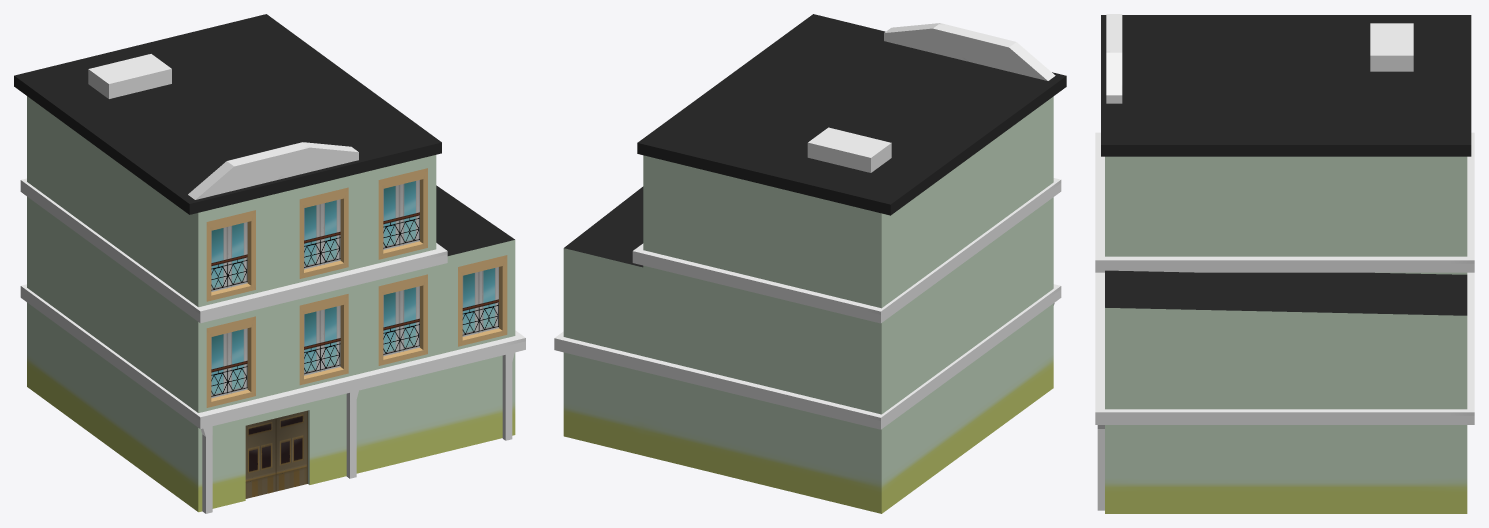
The model's file is French Balcony House 3.fbx.
3 views of the same model, side by side, from view 1: azimuth 30°, elevation 25°; view 2: azimuth 150°, elevation 25°; view 3: azimuth 270°, elevation 25° (orthographic). The views are drawn at different scales.
Visible parts, largest first — view 1: French Balcony House 3; view 2: French Balcony House 3; view 3: French Balcony House 3.
Part boxes in pixels (box(x1,y1,x2,y2)): French Balcony House 3: box(14, 14, 525, 513); French Balcony House 3: box(554, 14, 1066, 513); French Balcony House 3: box(1095, 14, 1474, 513).
Size of the model in its own units: 3.89 by 3.75 by 3.63.
